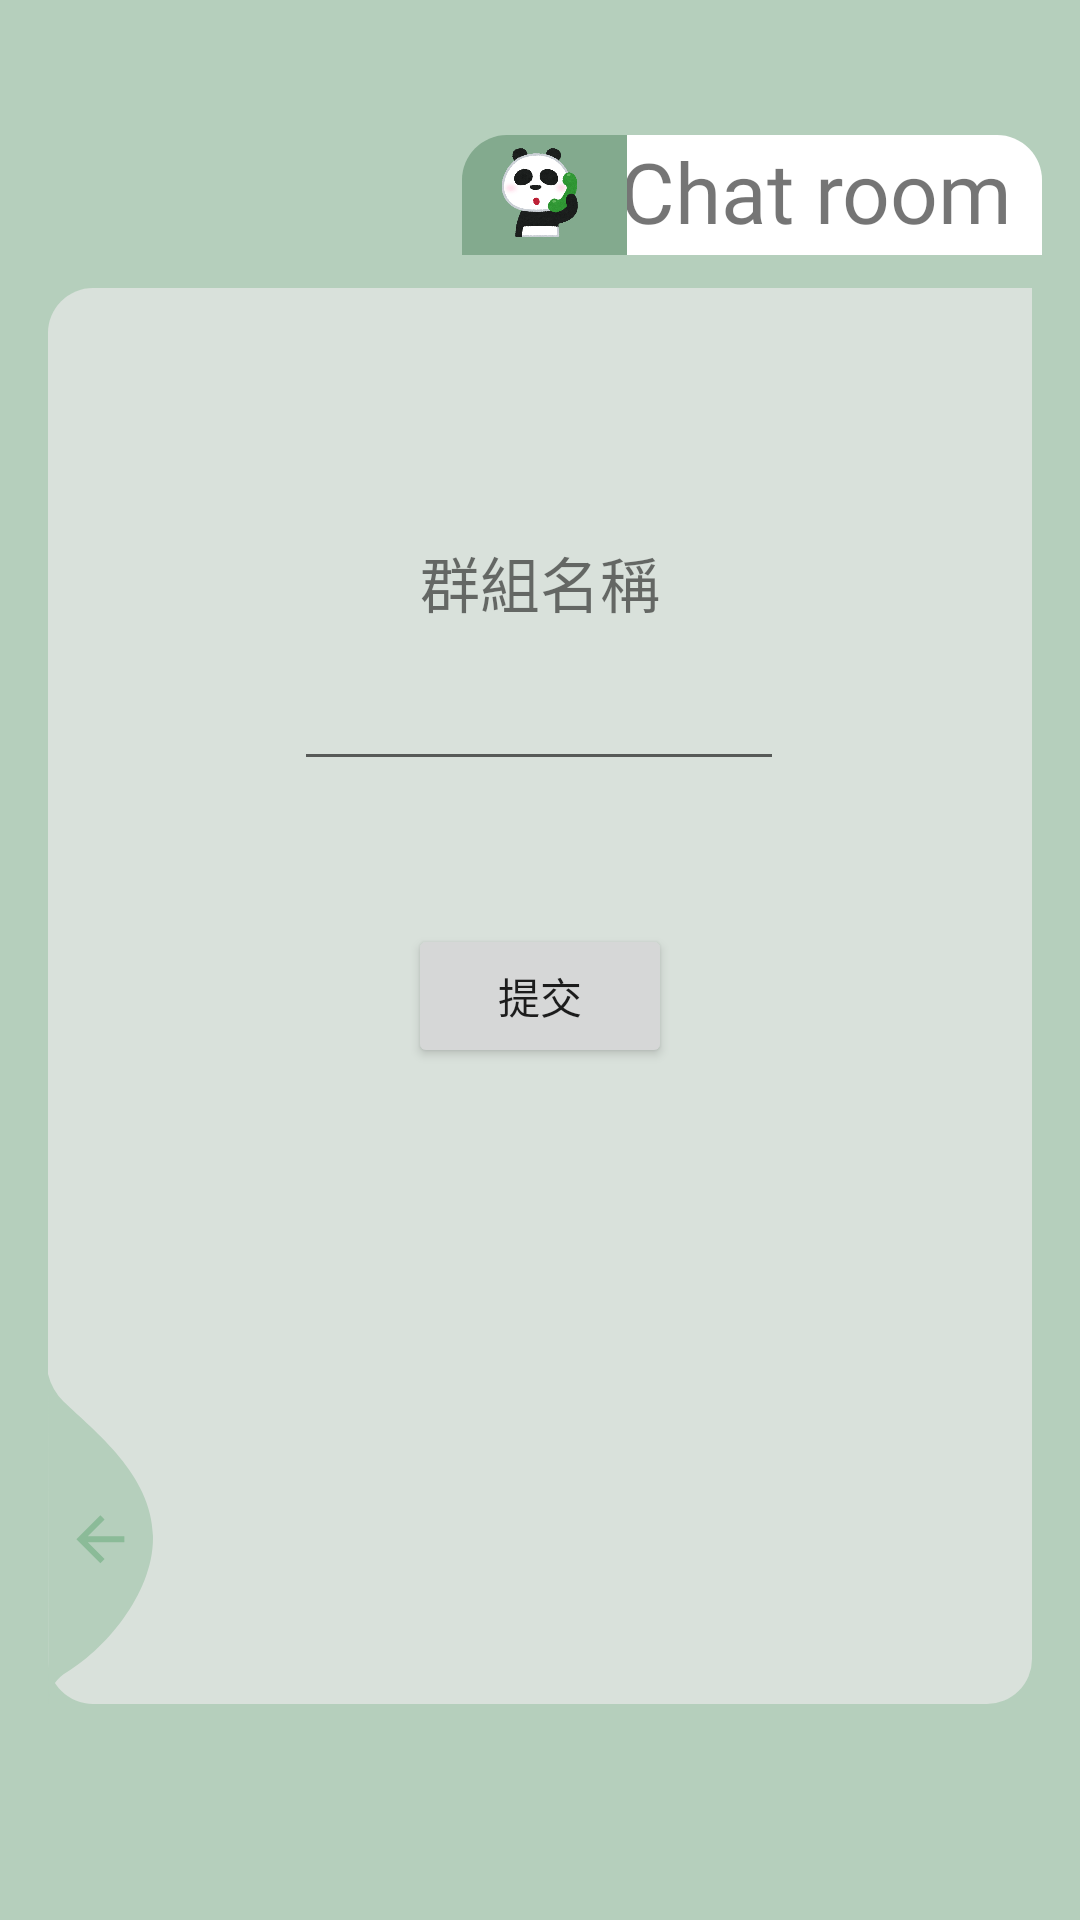

Where to tap for icons on this 1080w x 1920h app screen, as point (x, y):
back: point (100, 1539)
mark network status tsuuwachu: point (544, 195)
